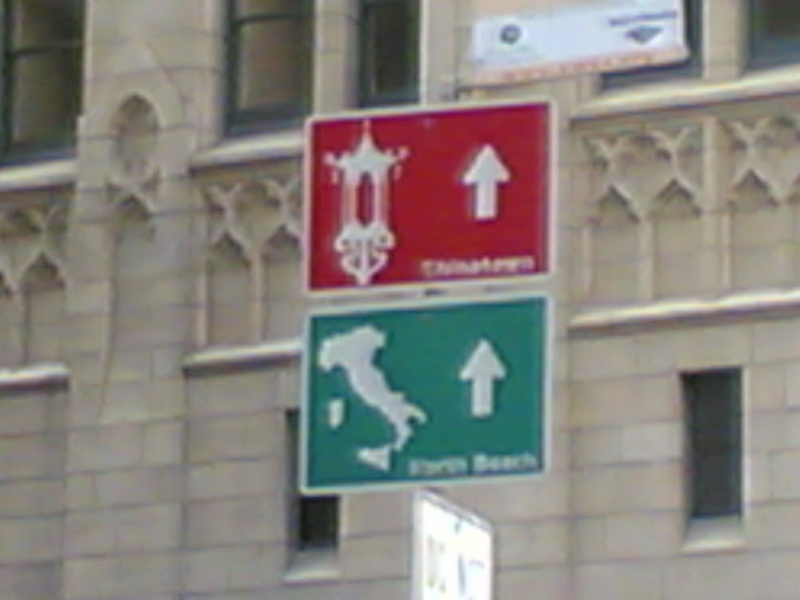straight_direction: (455, 141, 513, 228), (458, 335, 509, 421)
